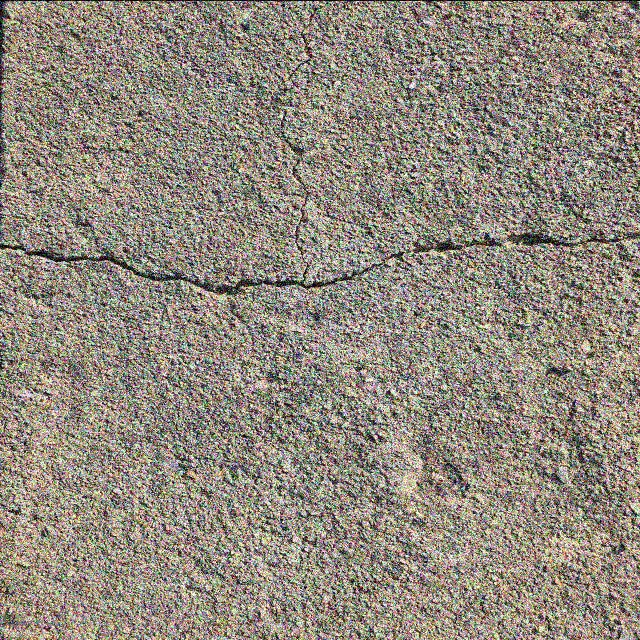SurfaceCrack: (0, 186, 639, 346)
